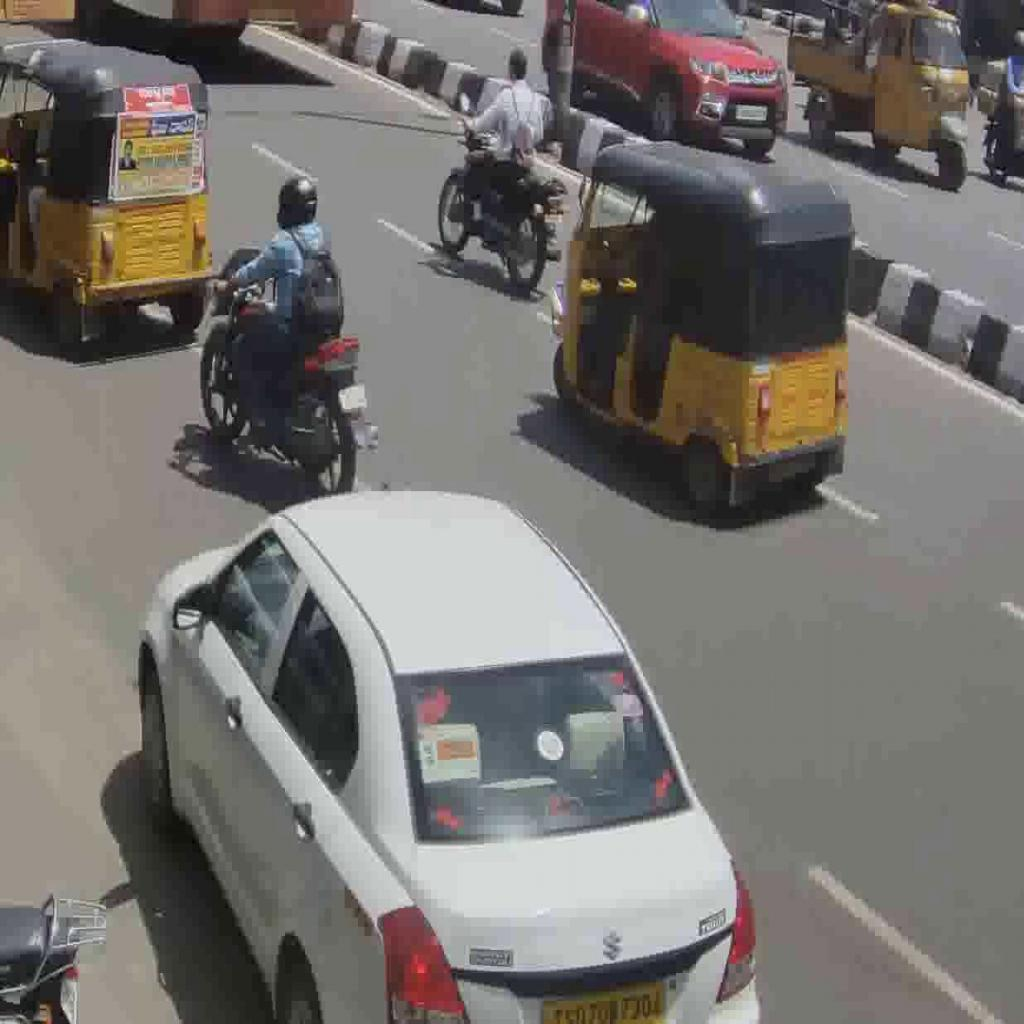bike: (198, 244, 381, 495), (437, 106, 564, 295)
helmet: (275, 174, 319, 232)
lisc: (338, 381, 366, 412)
no_helmet: (504, 45, 528, 85)
rider: (206, 174, 338, 448), (459, 44, 545, 244)
